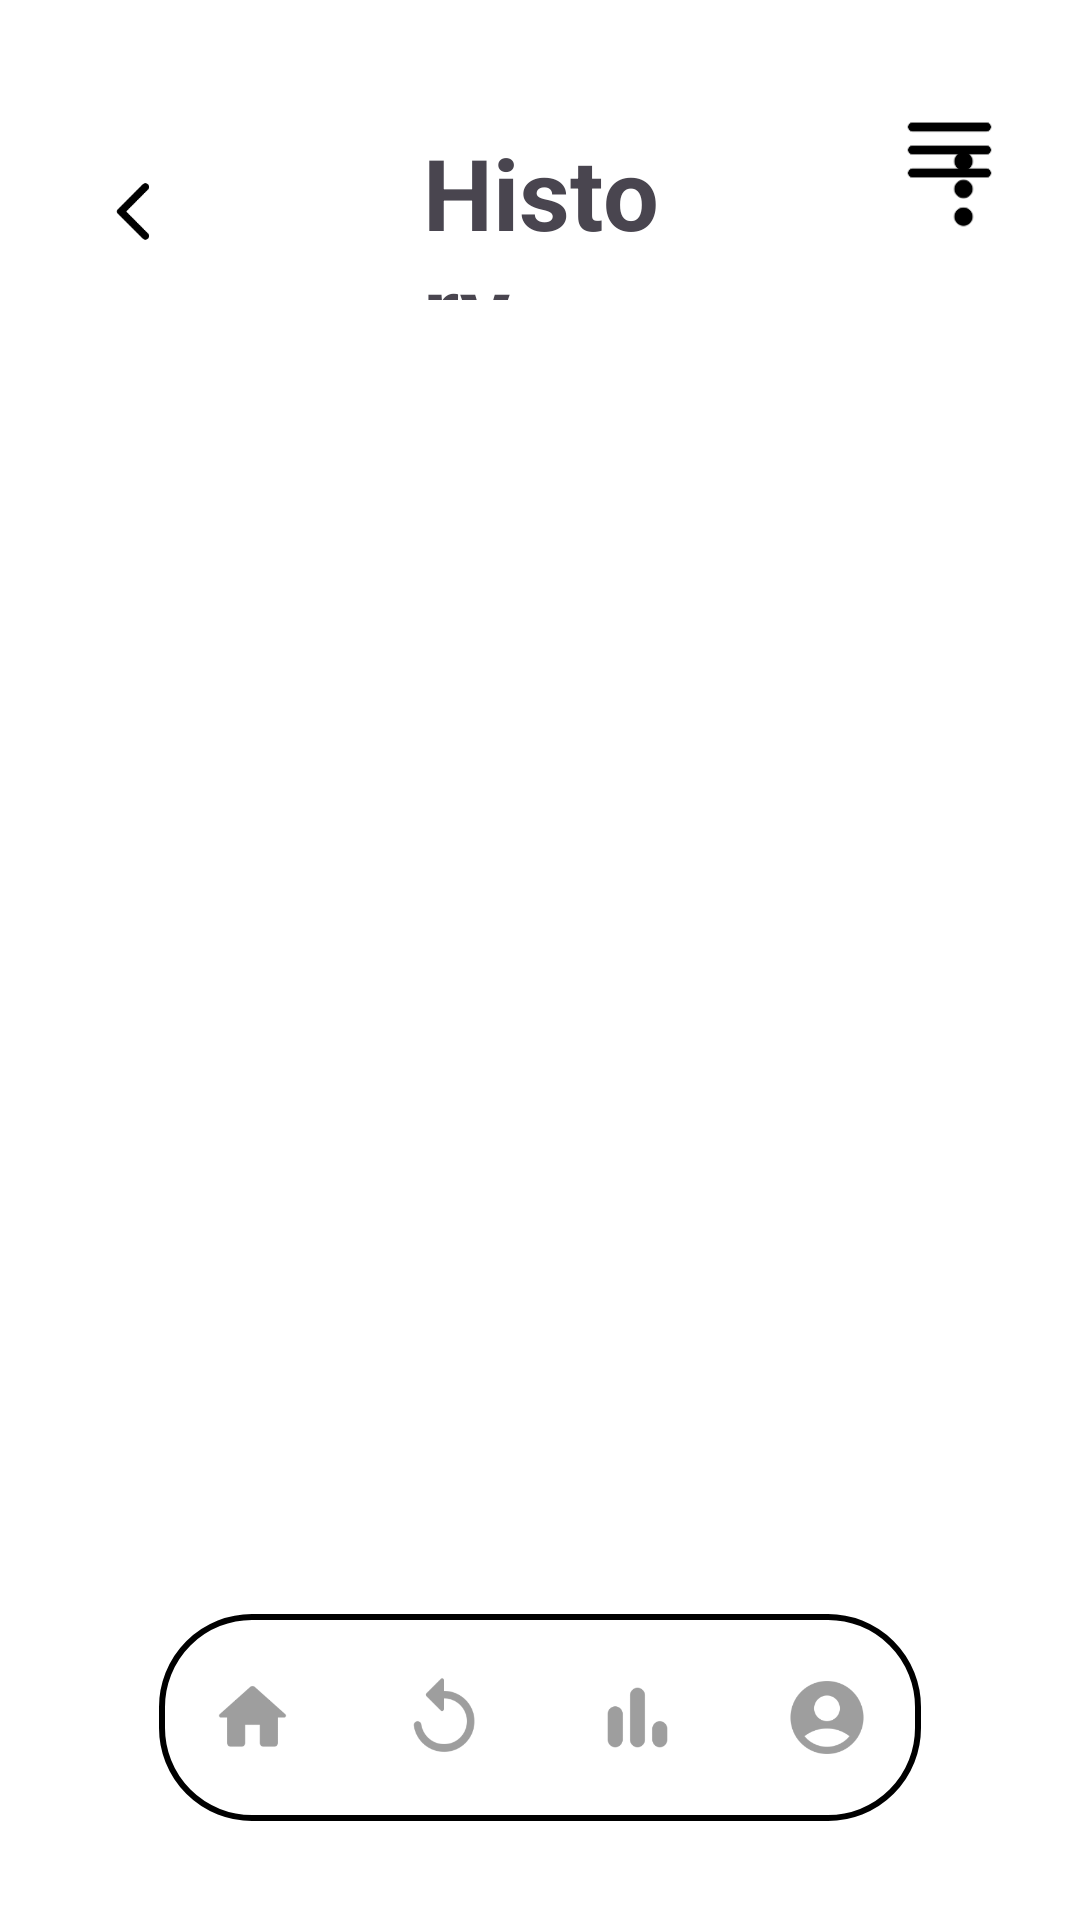

Where icons sit on this 1080x1920 app screen, as BBox(x1, y1, x2, y2):
arrow: BBox(116, 183, 149, 240)
chart: BBox(542, 1614, 733, 1821)
history: BBox(346, 1614, 542, 1821)
home: BBox(159, 1614, 346, 1821)
profile: BBox(790, 1681, 864, 1754)
